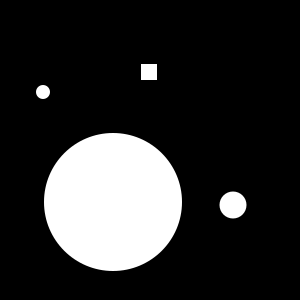circle: (141, 64, 157, 80)
rectangle: (44, 133, 182, 271), (219, 192, 246, 219), (36, 85, 50, 99)
